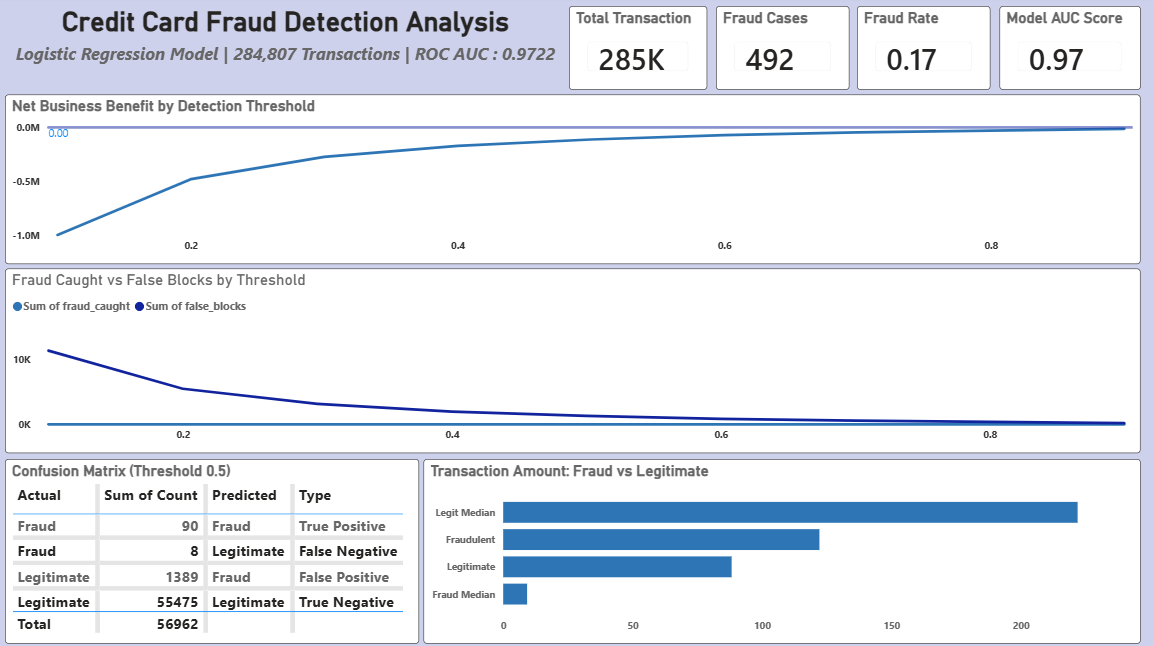

What the dashboard file says about the page in this screenshot:
{"tool":"powerbi","page":{"name":"Page 1","canvas":[1280,720],"ordinal":0},"visuals":[{"type":"cardVisual","title":"Total Transaction","fields":{"Data":["fraud_summary.Total Transactions"]},"box":[632.8,6.6,152.4,92.8],"z":0},{"type":"cardVisual","title":"Fraud Rate","fields":{"Data":["fraud_summary.Fraud Rate"]},"box":[951.4,6.6,147.4,92.8],"z":1000},{"type":"cardVisual","title":"Model AUC Score","fields":{"Data":["fraud_summary.Model ACU Score"]},"box":[1108.2,6.6,155.7,92.8],"z":2000},{"type":"cardVisual","title":"Fraud Cases","fields":{"Data":["fraud_summary.Total Fraud case"]},"box":[794.6,6.6,147.4,92.8],"z":3000},{"type":"lineChart","title":"Net Business Benefit by Detection Threshold","fields":{"Category":["threshold_analysis.threshold"],"Y":["Sum(threshold_analysis.net_benefit)"]},"box":[9.9,104.4,1254,187.2],"z":4000},{"type":"lineChart","title":"Fraud Caught vs False Blocks by Threshold ","fields":{"Category":["threshold_analysis.threshold"],"Y":["Sum(threshold_analysis.fraud_caught)","Sum(threshold_analysis.false_blocks)"]},"box":[9.9,296.5,1254,203.7],"z":5000},{"type":"tableEx","title":"Confusion Matrix (Threshold 0.5)","fields":{"Values":["Confusion Matrix.Actual","Sum(Confusion Matrix.Count)","Confusion Matrix.Predicted","Confusion Matrix.Type"]},"box":[9.9,506.9,457.2,203.7],"z":6000},{"type":"clusteredBarChart","title":"Transaction Amount: Fraud vs Legitimate ","fields":{"Category":["Amount Comparison.Category"],"Y":["Sum(Amount Comparison.Avg. Amount)"]},"box":[472.1,506.9,791.8,203.7],"z":7000},{"type":"textbox","title":"Credit Card Fraud Detection Analysis","box":[9.9,6.6,619.5,92.8],"z":8000}]}

Visuals, with their boxes in screenshot pixels (x1, y1, x2, y2), scaled from the page's 1280x720 canvas onto the 1153x646 screenshot:
"Total Transaction" cardVisual: region(570, 6, 707, 89)
"Fraud Rate" cardVisual: region(857, 6, 990, 89)
"Model AUC Score" cardVisual: region(998, 6, 1138, 89)
"Fraud Cases" cardVisual: region(716, 6, 849, 89)
"Net Business Benefit by Detection Threshold" lineChart: region(9, 94, 1138, 262)
"Fraud Caught vs False Blocks by Threshold " lineChart: region(9, 266, 1138, 449)
"Confusion Matrix (Threshold 0.5)" tableEx: region(9, 455, 421, 638)
"Transaction Amount: Fraud vs Legitimate " clusteredBarChart: region(425, 455, 1138, 638)
"Credit Card Fraud Detection Analysis" textbox: region(9, 6, 567, 89)
